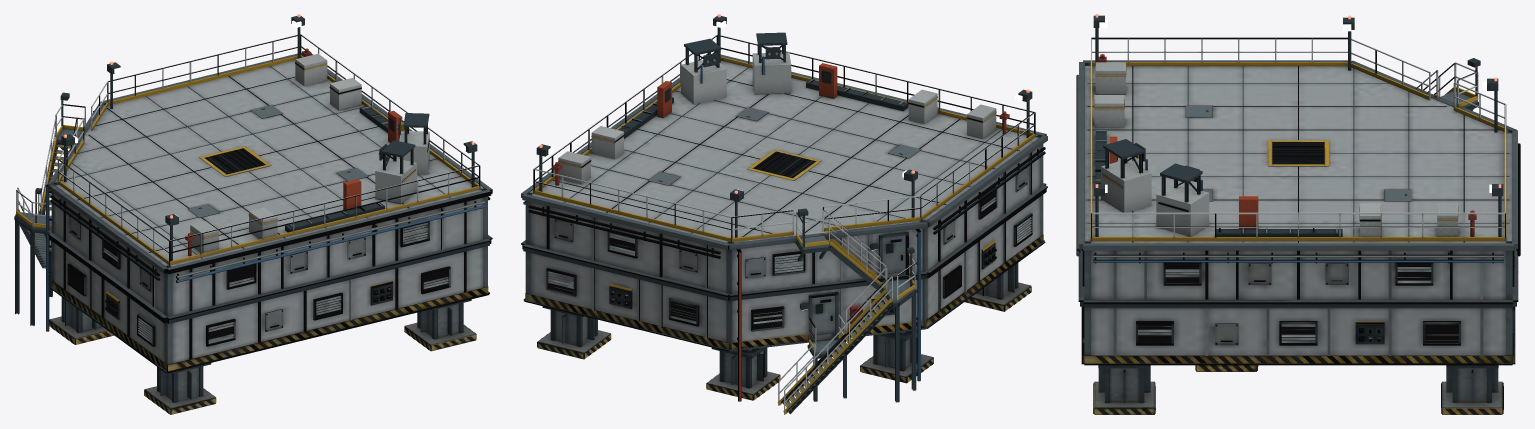
File: launcher_ml_v5.glb
The picture shows the model from 3 angles, left to right: view 1: azimuth 30°, elevation 25°; view 2: azimuth 150°, elevation 25°; view 3: azimuth 270°, elevation 25°; orthographic projection. The views are drawn at different scales.
Parts seen in each view (by area): view 1: shell, deck, base, stairs; view 2: shell, deck, stairs, base; view 3: shell, deck, base, stairs.
Boxes of the visible parts, x1,y1,x2,y2 form: shell: [46, 52, 492, 373]; deck: [57, 16, 480, 265]; base: [49, 297, 476, 414]; stairs: [14, 92, 85, 325]; shell: [521, 54, 1047, 401]; deck: [533, 16, 1035, 241]; stairs: [777, 208, 916, 414]; base: [537, 263, 1031, 400]; shell: [1076, 60, 1520, 365]; deck: [1087, 15, 1509, 242]; base: [1093, 365, 1503, 414]; stairs: [1415, 58, 1480, 110].
Bounding box in the file's own units: 16.12 × 9.2 × 16.1.
Materials: 6 (4 with a texture image).
